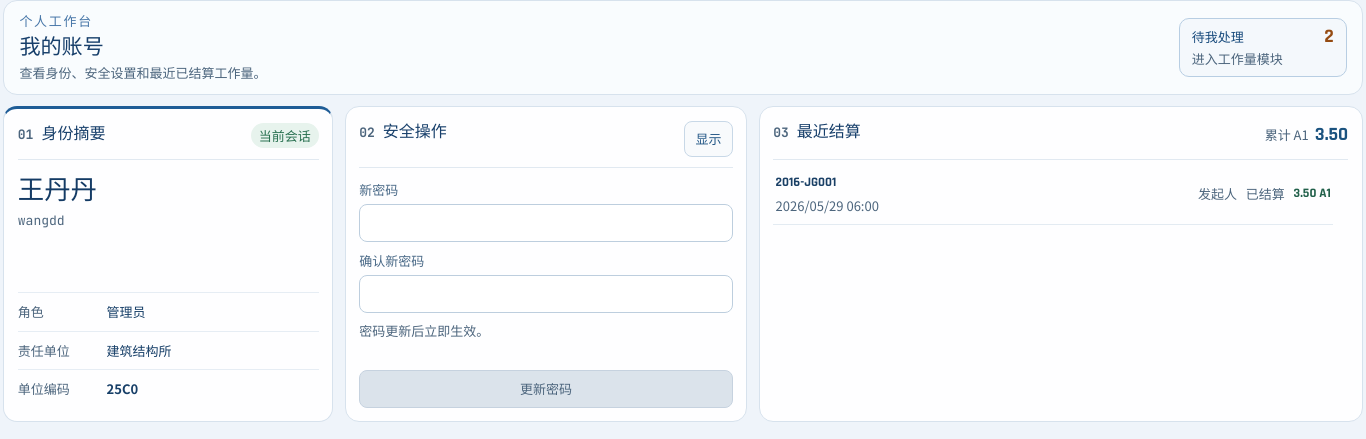
Test: AccountPage › keeps passwords masked and does not submit mismatched confirmation
Type "new-password" into the password field labelled "新密码" at (546, 223), box [359,204,733,242]
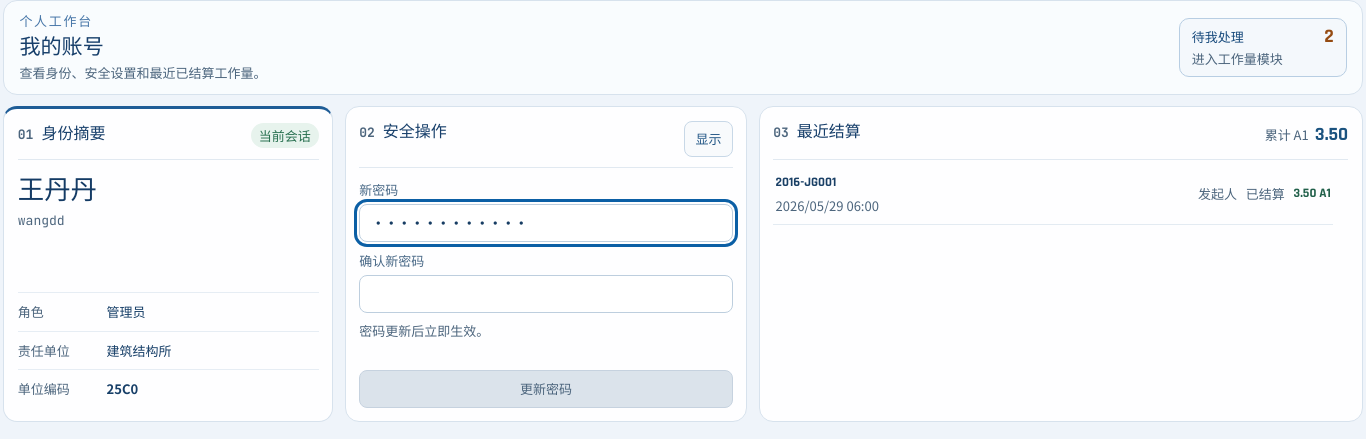
Type "different-password" into the password field labelled "确认新密码" at (546, 294), box [359,275,733,313]
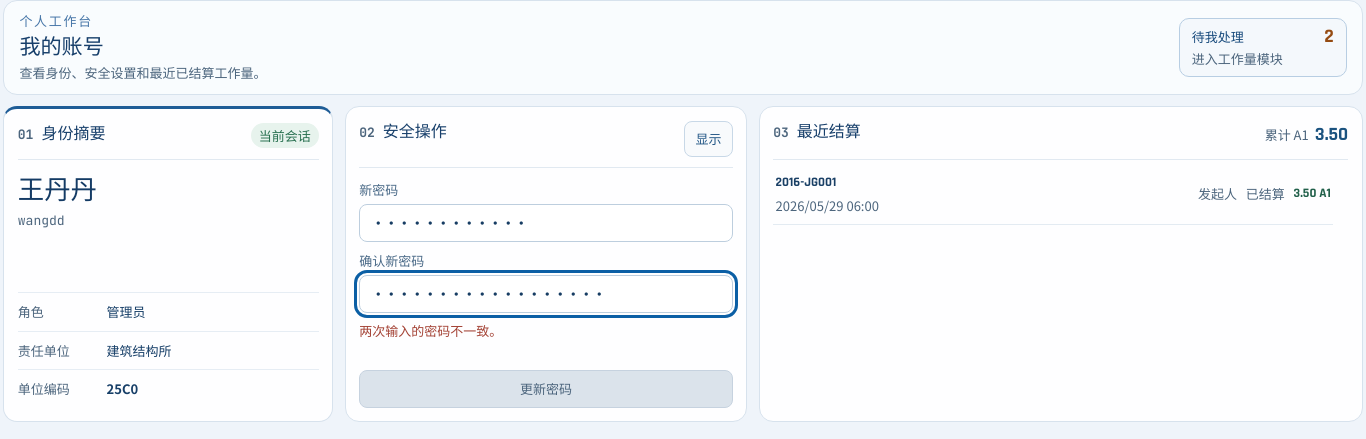
expect the button "更新密码" is disabled: met, box [359,370,733,408]
expect the text "两次输入的密码不一致。" is shown: met, box [359,321,502,340]
Click the button with aria-label "显示密码" at (708, 139), box [684,121,733,157]
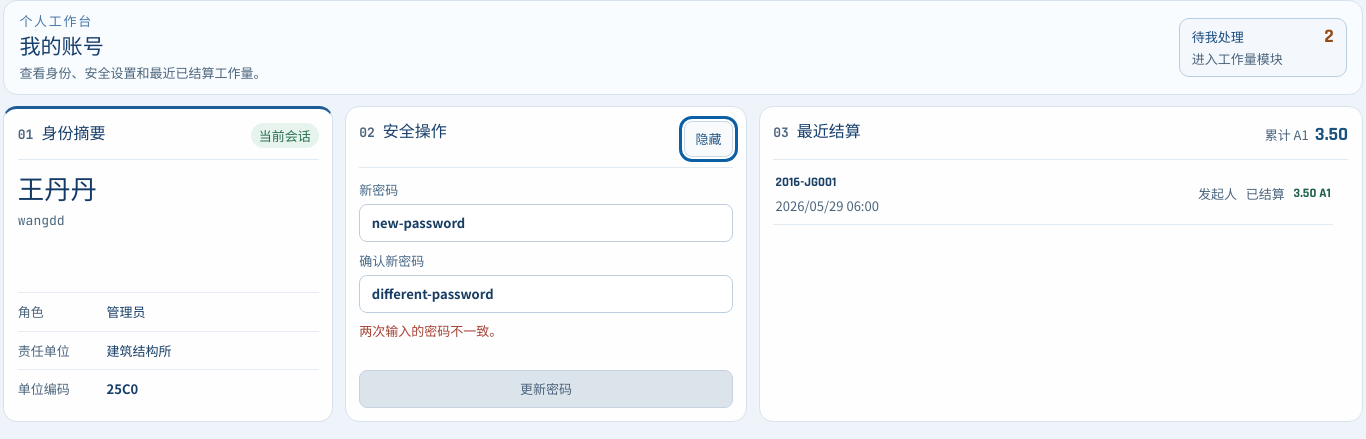
expect the field labelled "新密码" shows its text: met, box [359,204,733,242]
expect the field labelled "确认新密码" shows its text: met, box [359,275,733,313]
